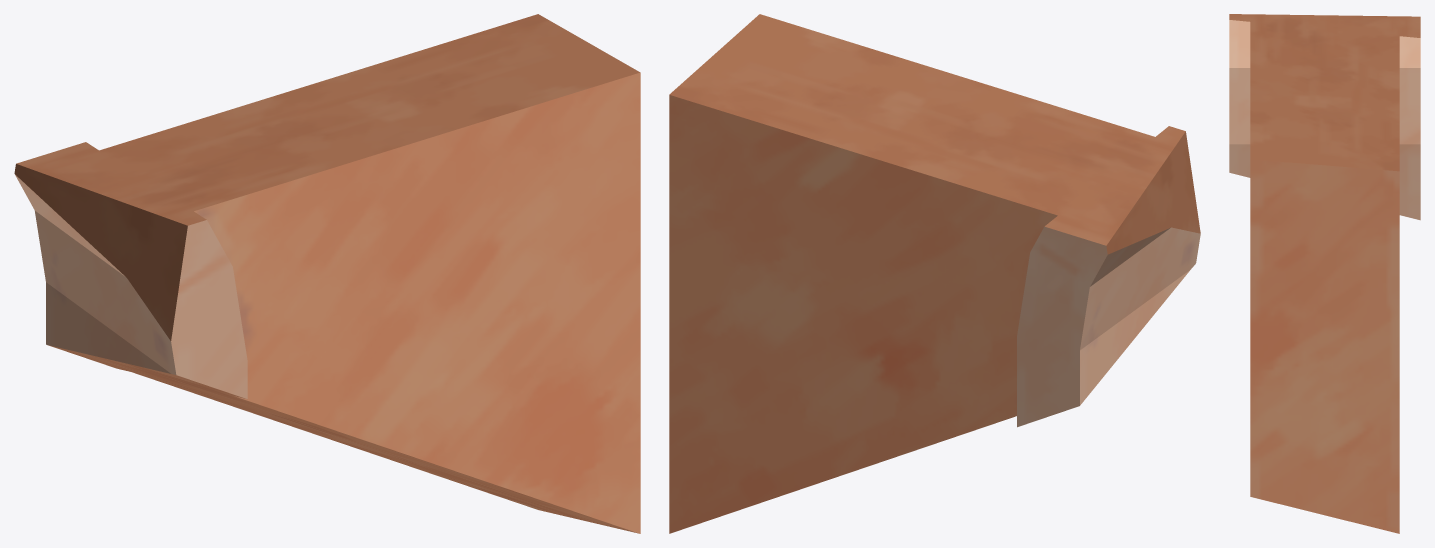
File: wall2_window_s03.fbx
3 renders of one model, left to right at view 1: azimuth 30°, elevation 25°; view 2: azimuth 150°, elevation 25°; view 3: azimuth 270°, elevation 25°, orthographic. The views are drawn at different scales.
Parts seen in each view (by area): view 1: wall2_window_s03; view 2: wall2_window_s03; view 3: wall2_window_s03.
Boxes of the visible parts, x1,y1,x2,y2 form: wall2_window_s03: (14, 14, 640, 533); wall2_window_s03: (669, 14, 1200, 533); wall2_window_s03: (1229, 14, 1420, 533).
Size of the model in its own units: 2.88 by 2.77 by 1.28.
